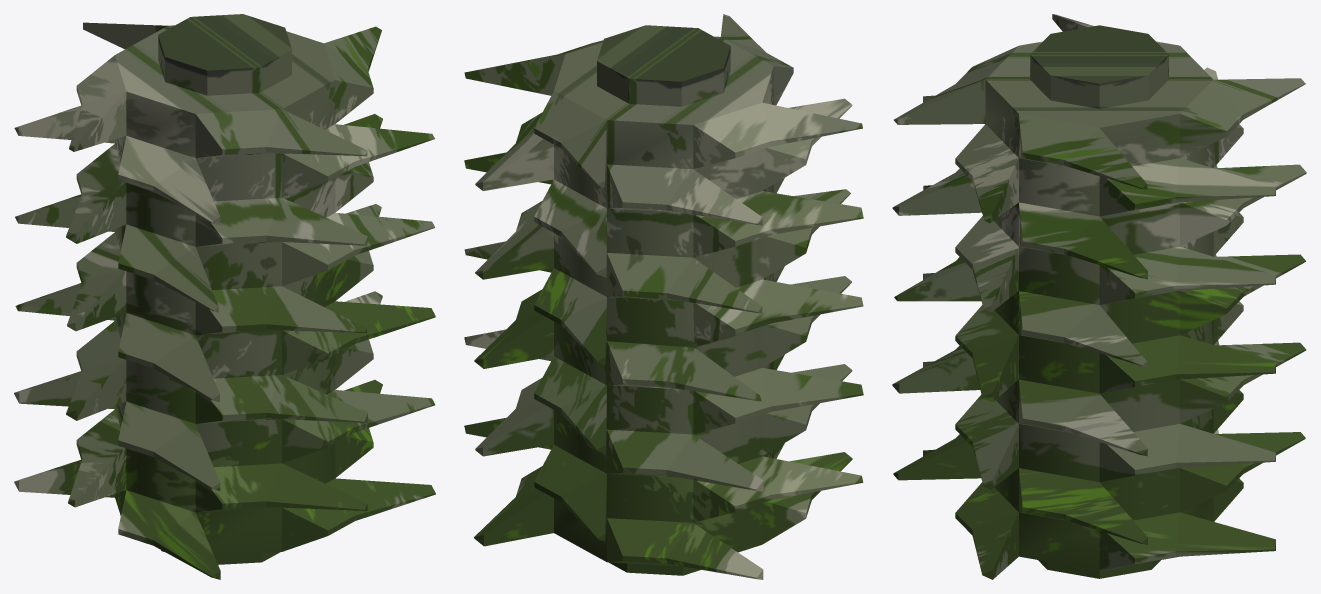
Rendered from SpinningBlades.FBX.
The picture shows the model from 3 angles, left to right: view 1: azimuth 30°, elevation 25°; view 2: azimuth 150°, elevation 25°; view 3: azimuth 270°, elevation 25°; orthographic projection.
Parts seen in each view (by area): view 1: SpinningBlades; view 2: SpinningBlades; view 3: SpinningBlades.
Part boxes in pixels (x1,y1,x2,y2): SpinningBlades: [14, 14, 435, 579]; SpinningBlades: [464, 14, 863, 579]; SpinningBlades: [892, 14, 1306, 579].
Bounding box in the file's own units: 100 × 100 × 132.
